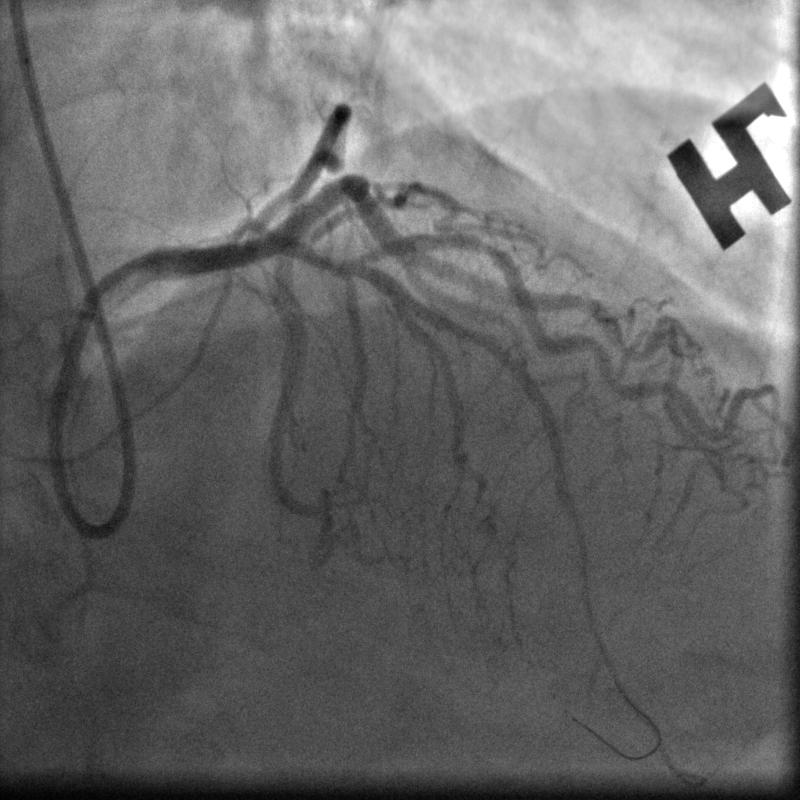Stenosis: (465, 224, 512, 268)
